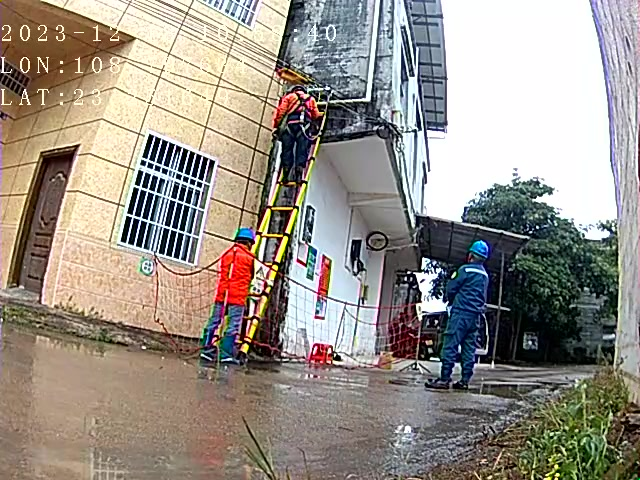halt: (470, 242, 493, 264), (237, 231, 259, 251)
